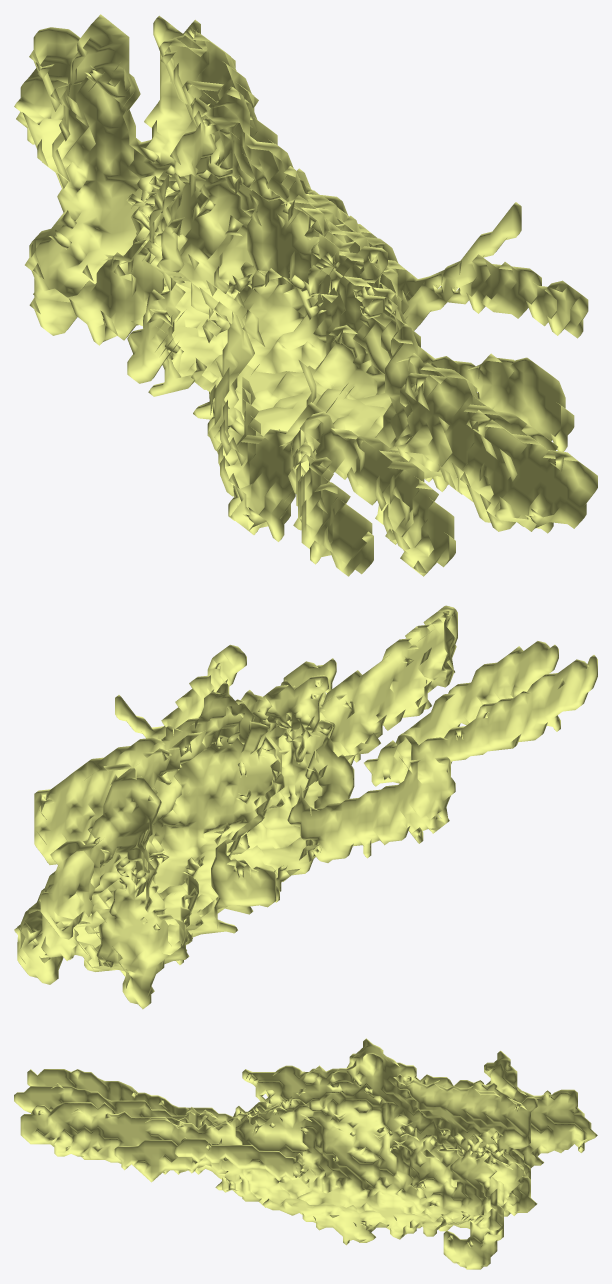
The model's file is osteocyte_51.glb.
The picture shows the model from 3 angles, top to bottom: view 1: azimuth 30°, elevation 25°; view 2: azimuth 150°, elevation 25°; view 3: azimuth 270°, elevation 25°; orthographic projection. The views are drawn at different scales.
Parts seen in each view (by area): view 1: osteocyte_51; view 2: osteocyte_51; view 3: osteocyte_51.
Part boxes in pixels (<box>): osteocyte_51: <box>14,14,597,576</box>; osteocyte_51: <box>14,605,597,1009</box>; osteocyte_51: <box>14,1038,597,1269</box>.
Bounding box in the file's own units: 17.82 × 15.41 × 41.89.
